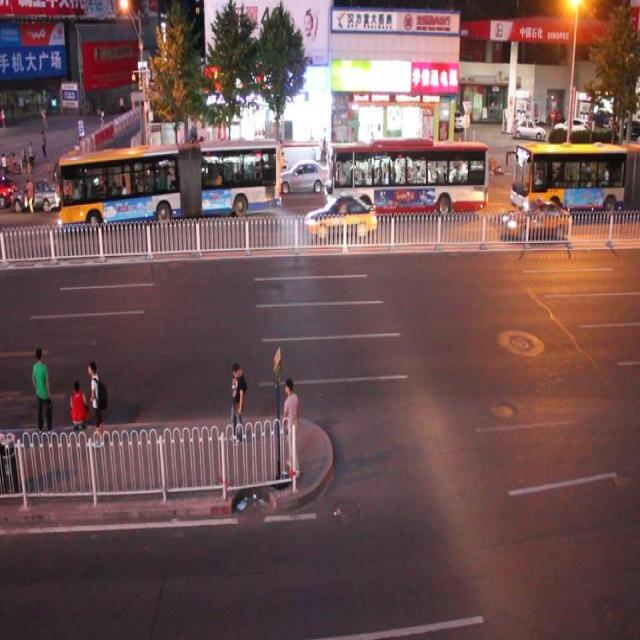car: (306, 194, 374, 238), (502, 200, 568, 239), (70, 178, 121, 220), (191, 159, 236, 201), (278, 159, 326, 195), (11, 180, 60, 212), (1, 173, 18, 209)
van: (56, 141, 280, 222), (325, 139, 487, 214), (511, 138, 640, 219)
